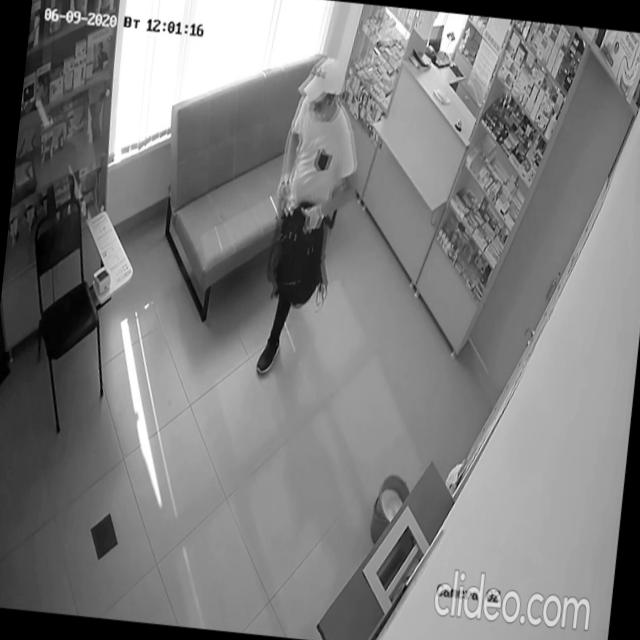gun: (275, 176, 291, 221)
person with a gun: (255, 52, 372, 386)
